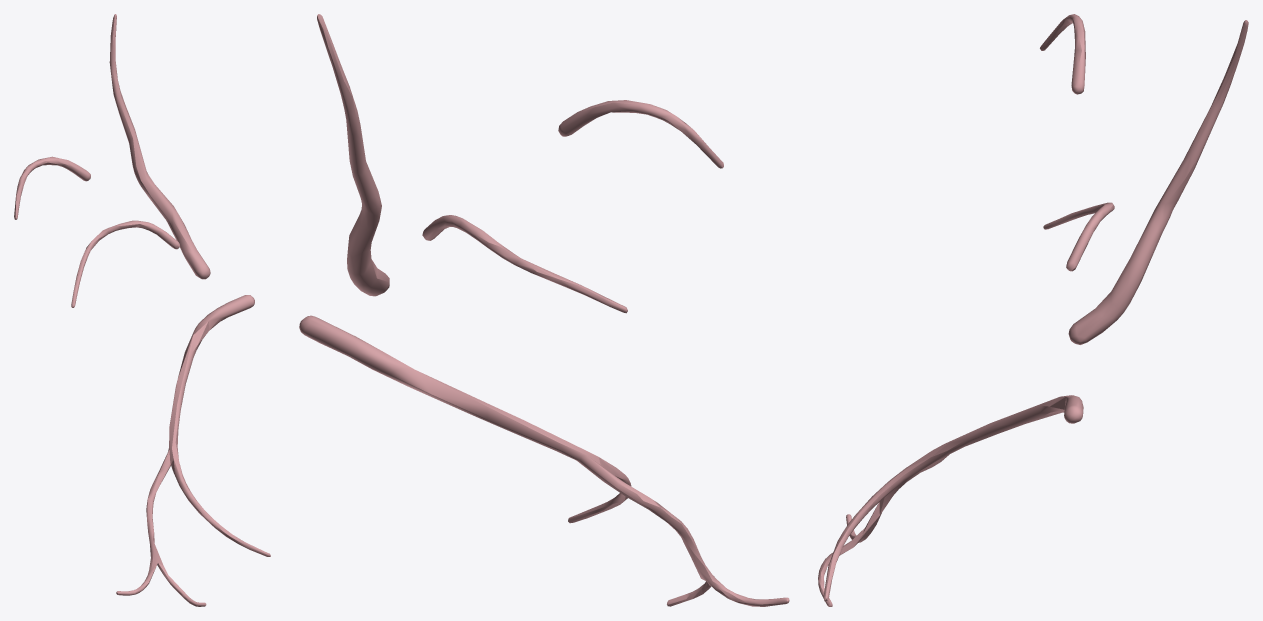
The model's file is fma71868_fj3072.glb.
The picture shows the model from 3 angles, left to right: view 1: azimuth 30°, elevation 25°; view 2: azimuth 150°, elevation 25°; view 3: azimuth 270°, elevation 25°; orthographic projection. The views are drawn at different scales.
Parts seen in each view (by area): view 1: FMA71868_FJ3072; view 2: FMA71868_FJ3072; view 3: FMA71868_FJ3072.
Boxes of the visible parts, bbox=[...] form: FMA71868_FJ3072: bbox=[14, 14, 270, 606]; FMA71868_FJ3072: bbox=[299, 14, 789, 606]; FMA71868_FJ3072: bbox=[818, 14, 1248, 606].
Bounding box in the file's own units: 0.0396 × 0.0699 × 0.0434.
